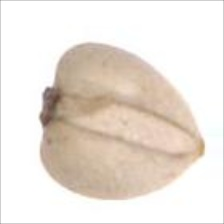L5: (63, 93, 199, 159), (38, 81, 65, 130)
L6: (37, 41, 206, 202)
